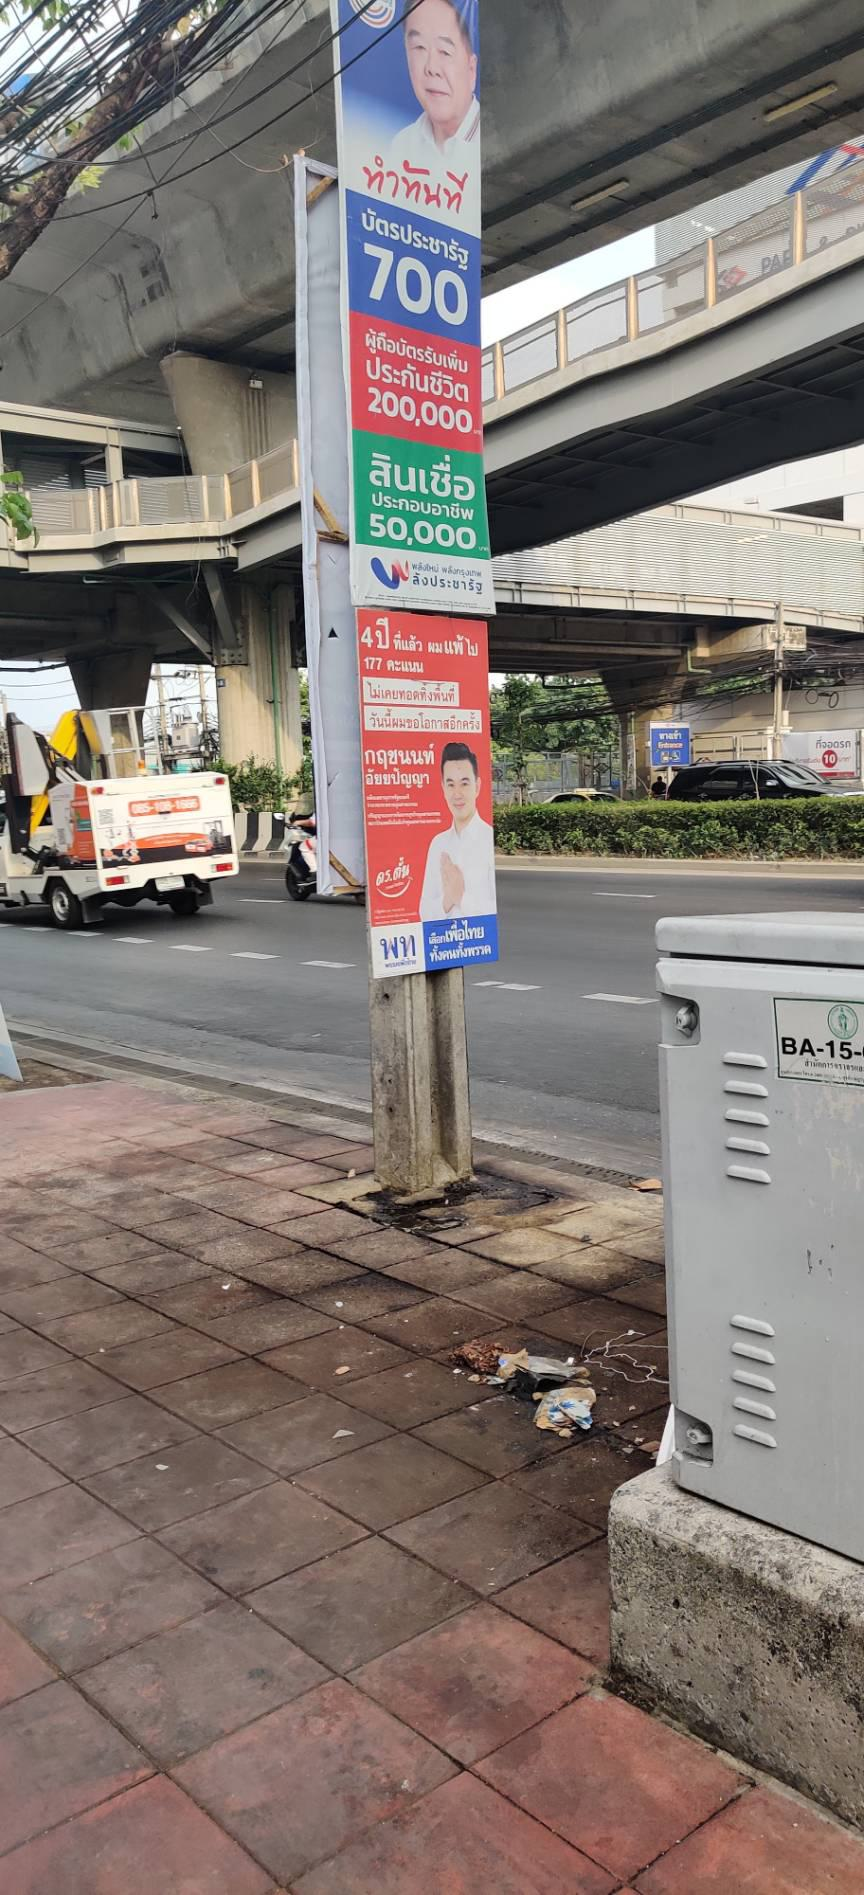Banner: (334, 0, 488, 602), (349, 607, 493, 989)
